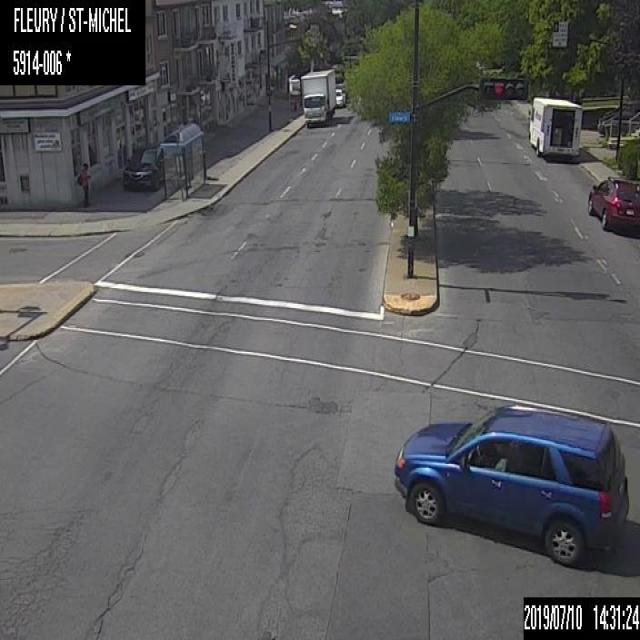pedestrian: (74, 162, 92, 208)
vehicle: (393, 398, 629, 566), (527, 96, 582, 157), (586, 174, 639, 230), (299, 68, 336, 127), (122, 144, 167, 191), (334, 88, 346, 108)
